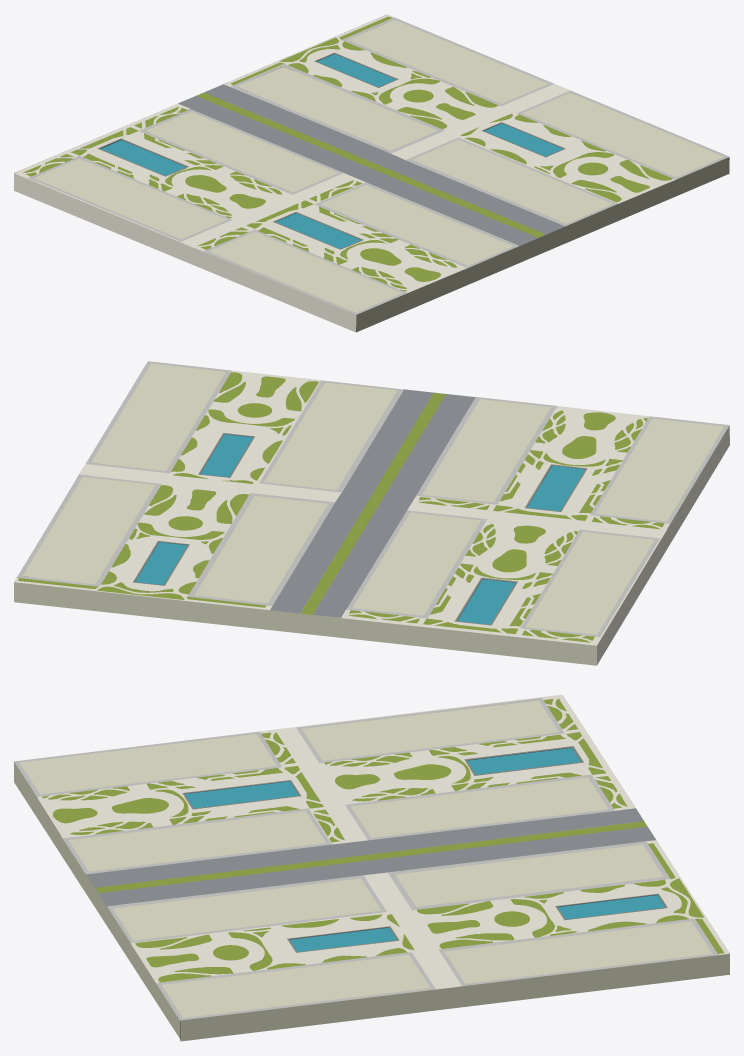
Rendered from Paradise_area_Import3DFiles.glb.
The picture shows the model from 3 angles, top to bottom: view 1: azimuth 30°, elevation 25°; view 2: azimuth 150°, elevation 25°; view 3: azimuth 270°, elevation 25°; orthographic projection. The views are drawn at different scales.
Parts seen in each view (by area): view 1: mesh_material_from_multipatch_6, mesh_material_from_multipatch_1, mesh_material_from_multipatch_3, mesh_material_from_multipatch_8, mesh_material_from_multipatch_7, mesh_material_from_multipatch_2, mesh_material_from_multipatch_5; view 2: mesh_material_from_multipatch_6, mesh_material_from_multipatch_1, mesh_material_from_multipatch_3, mesh_material_from_multipatch_8, mesh_material_from_multipatch_7, mesh_material_from_multipatch_2, mesh_material_from_multipatch_5; view 3: mesh_material_from_multipatch_6, mesh_material_from_multipatch_1, mesh_material_from_multipatch_3, mesh_material_from_multipatch_8, mesh_material_from_multipatch_7, mesh_material_from_multipatch_2, mesh_material_from_multipatch_5, mesh_material_from_multipatch_4.
Boxes of the visible parts, x1,y1,x2,y2 form: mesh_material_from_multipatch_6: (15,14,729,332); mesh_material_from_multipatch_1: (14,14,675,332); mesh_material_from_multipatch_3: (23,16,672,291); mesh_material_from_multipatch_8: (178,84,564,245); mesh_material_from_multipatch_7: (28,17,729,314); mesh_material_from_multipatch_2: (101,54,562,248); mesh_material_from_multipatch_5: (98,52,565,249); mesh_material_from_multipatch_6: (14,363,729,665); mesh_material_from_multipatch_1: (14,370,729,664); mesh_material_from_multipatch_3: (18,372,664,642); mesh_material_from_multipatch_8: (270,389,475,617); mesh_material_from_multipatch_7: (17,361,729,636); mesh_material_from_multipatch_2: (135,434,585,624); mesh_material_from_multipatch_5: (133,433,587,625); mesh_material_from_multipatch_6: (14,700,729,1041); mesh_material_from_multipatch_1: (37,694,729,989); mesh_material_from_multipatch_3: (42,698,724,982); mesh_material_from_multipatch_8: (86,808,655,906); mesh_material_from_multipatch_7: (14,697,717,1020); mesh_material_from_multipatch_2: (184,748,665,951); mesh_material_from_multipatch_5: (182,746,667,952); mesh_material_from_multipatch_4: (184,747,665,945).
Bounding box in the file's own units: 384 × 12.92 × 358.
